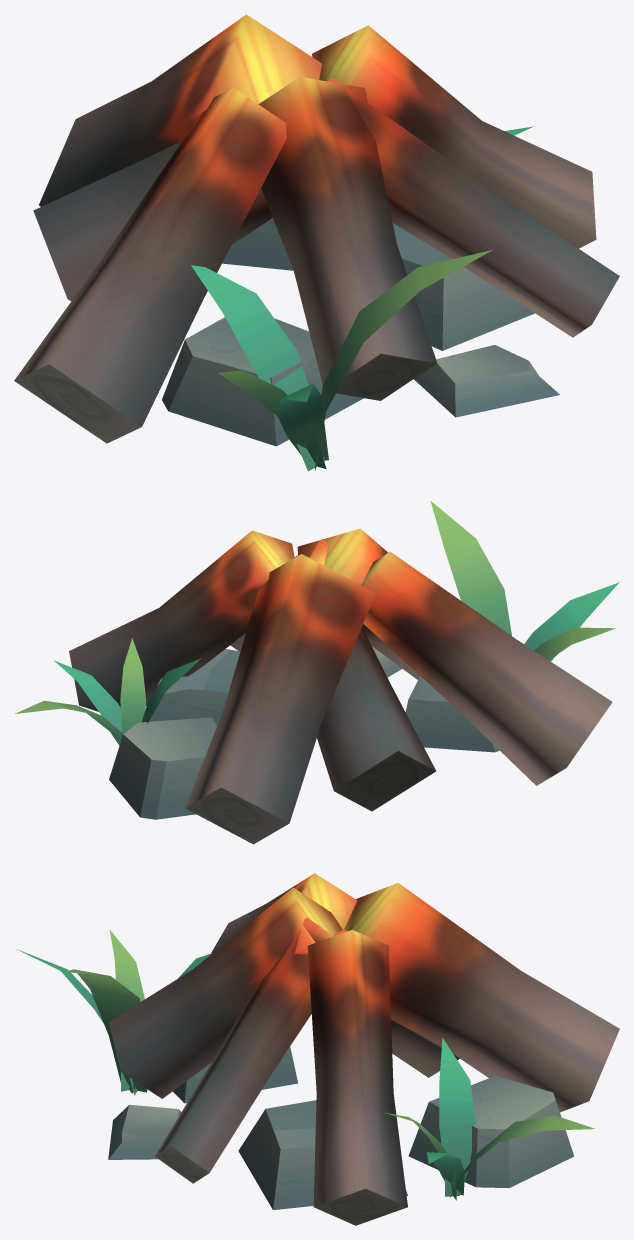
Rendered from Obstacle1B-001_02_18_0279.fbx.
The picture shows the model from 3 angles, top to bottom: view 1: azimuth 30°, elevation 25°; view 2: azimuth 150°, elevation 25°; view 3: azimuth 270°, elevation 25°; orthographic projection. The views are drawn at different scales.
Parts seen in each view (by area): view 1: Fire, Plant3 (2); view 2: Fire, Plant3 (2), Plant3 (1); view 3: Fire, Plant3 (1), Plant3 (2).
Part boxes in pixels (bbox=[...]): Fire: bbox=[14, 14, 619, 446]; Plant3 (2): bbox=[191, 249, 493, 471]; Fire: bbox=[69, 528, 612, 844]; Plant3 (2): bbox=[430, 501, 619, 661]; Plant3 (1): bbox=[15, 638, 201, 745]; Fire: bbox=[108, 873, 619, 1225]; Plant3 (1): bbox=[385, 1038, 594, 1200]; Plant3 (2): bbox=[16, 930, 212, 1095].
Bounding box in the file's own units: 2.12 × 1.01 × 2.2.
